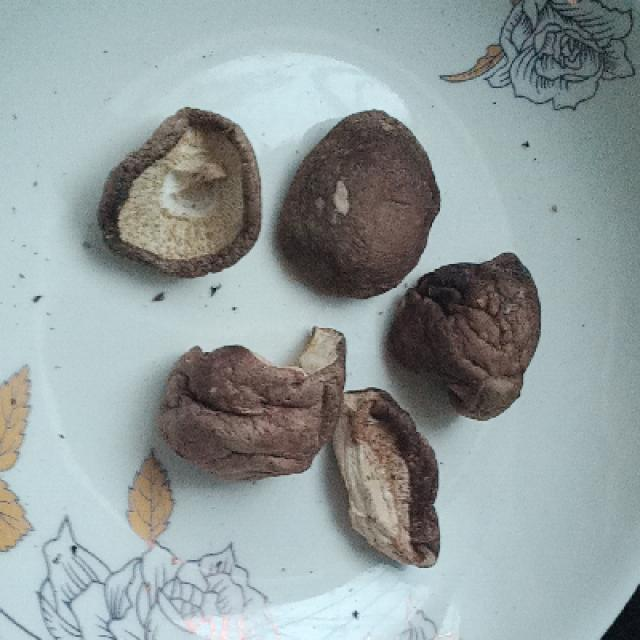Lentinus edodes: (277, 108, 442, 301), (99, 105, 265, 280), (166, 325, 346, 477), (389, 251, 545, 421), (334, 386, 446, 566)
